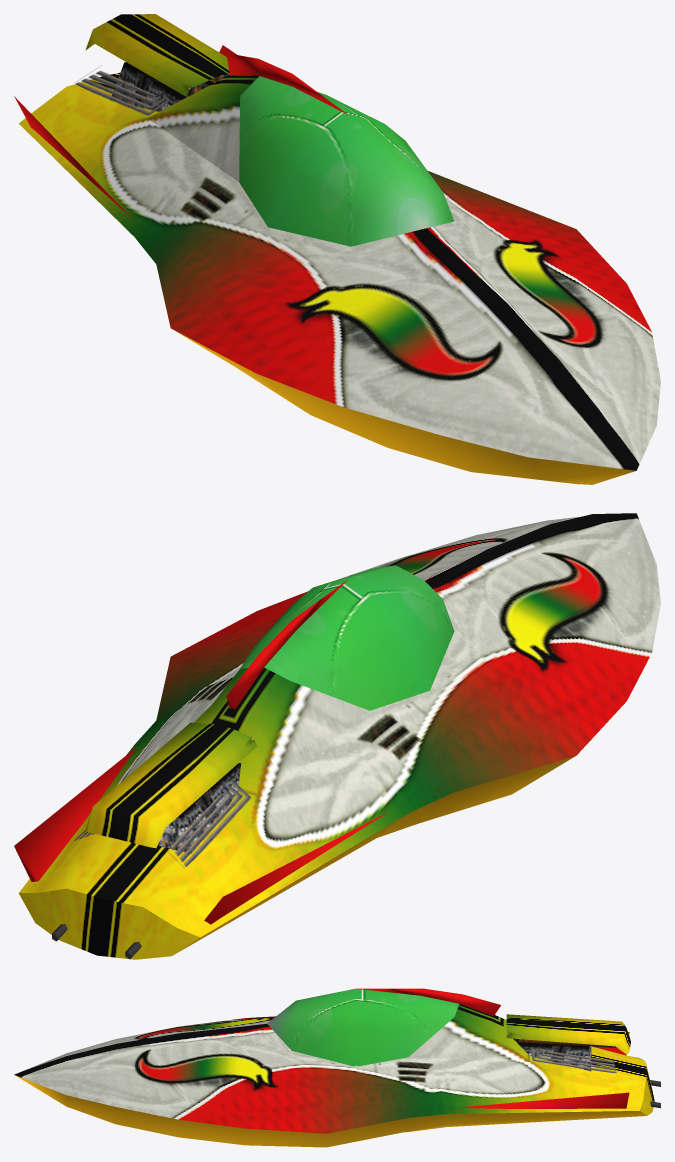
The model's file is Speed Boat.glb.
The picture shows the model from 3 angles, top to bottom: view 1: azimuth 30°, elevation 25°; view 2: azimuth 150°, elevation 25°; view 3: azimuth 270°, elevation 25°; orthographic projection. The views are drawn at different scales.
Visible parts, largest first — view 1: Hull, Cockpit, Top, Motor; view 2: Hull, Cockpit, Top, Motor; view 3: Hull, Cockpit, Top, Motor, Tubes.
Part boxes in pixels (<box>): Hull: <box>14,45,660,484</box>; Cockpit: <box>239,76,454,246</box>; Top: <box>85,14,229,96</box>; Motor: <box>75,62,216,115</box>; Hull: <box>14,513,660,959</box>; Cockpit: <box>240,565,454,710</box>; Top: <box>85,722,257,848</box>; Motor: <box>52,763,250,959</box>; Hull: <box>14,988,654,1147</box>; Cockpit: <box>267,988,459,1066</box>; Top: <box>506,1014,630,1054</box>; Motor: <box>517,1042,660,1108</box>; Tubes: <box>513,1038,616,1047</box>.
Size of the model in its own units: 1.9 by 1.06 by 4.41.
Materials: 3 (3 with a texture image).
